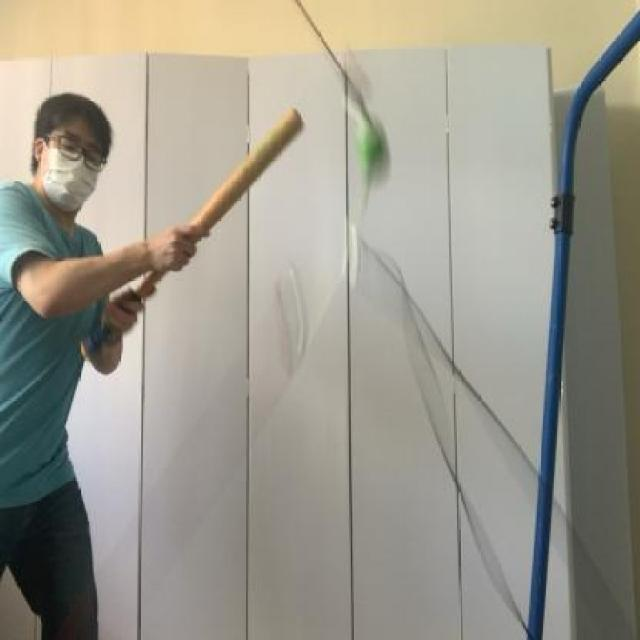baseball: (343, 103, 400, 183)
